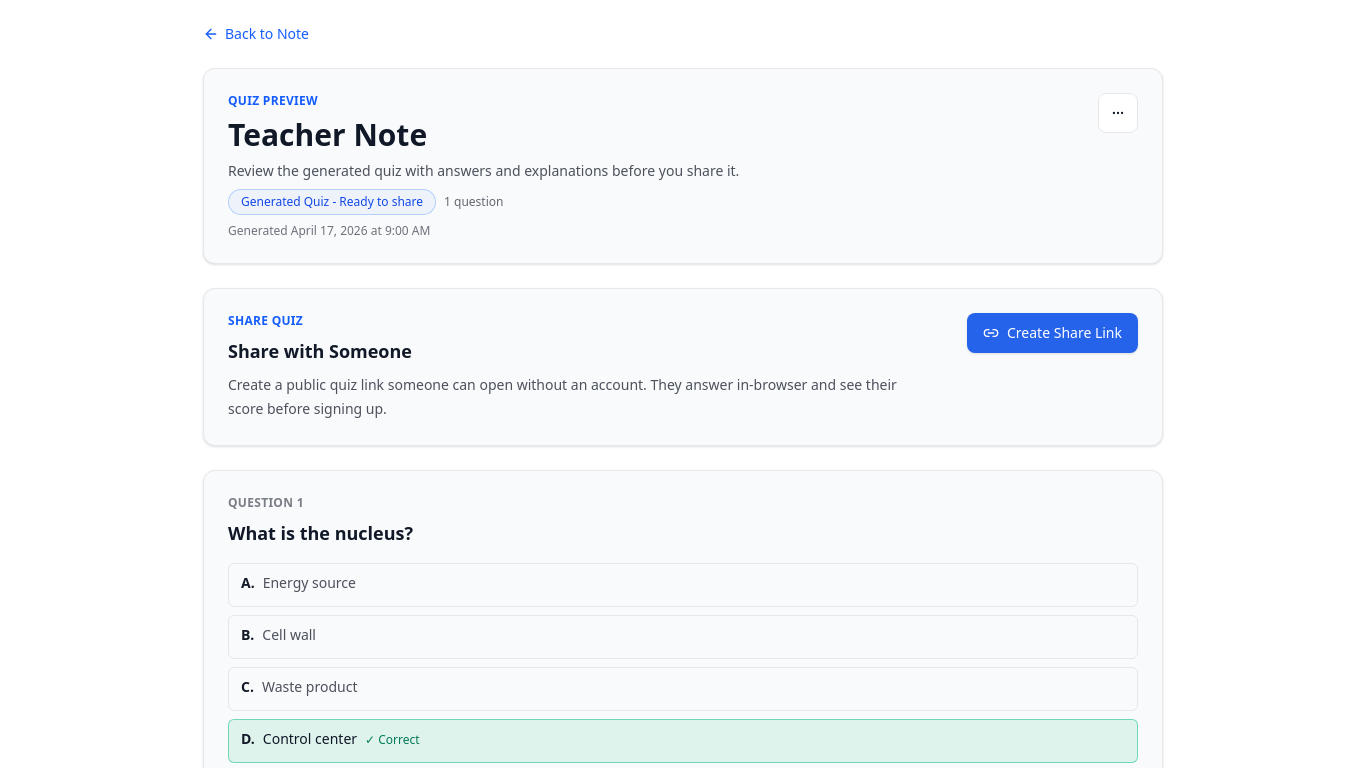
Scenario: GeneratedQuizPreviewPageClient › does not warn about a share link when there is no live one
This screenshot has width=1366, height=768.
Expected: the heading "What is the nucleus?" is shown, 228,521 -> 413,545
Click the button named "More quiz actions".
click(1118, 113)  # box 1098,93 -> 1138,133
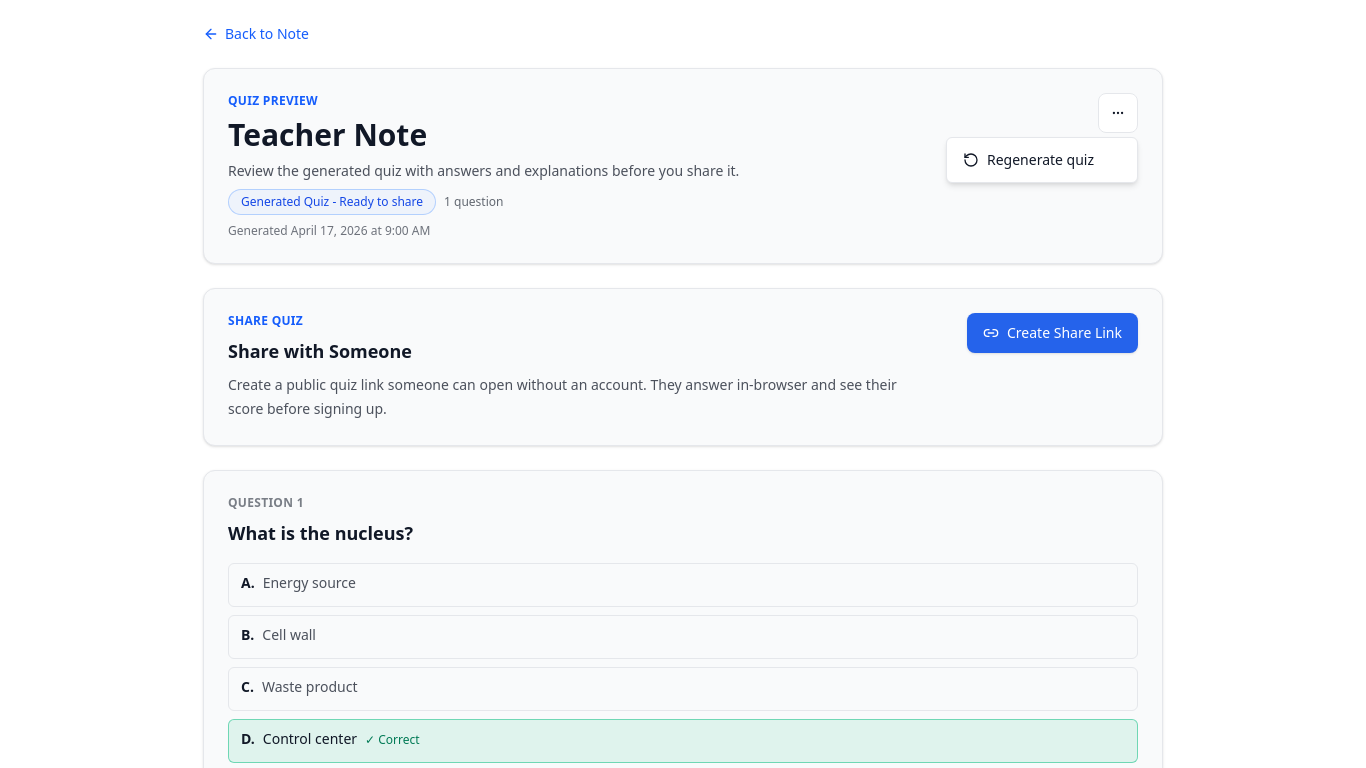
Click the menu item "Regenerate quiz".
click(1042, 160)  # box 951,142 -> 1133,178
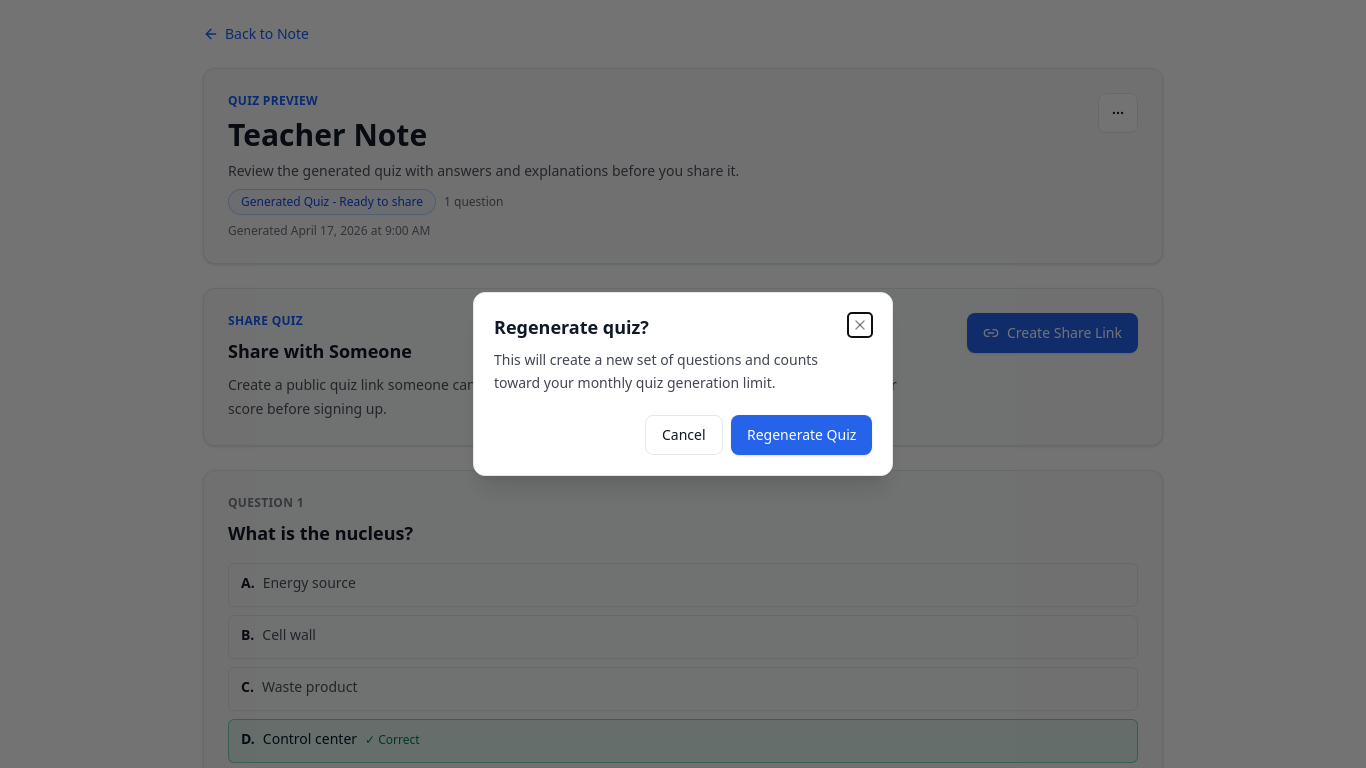
Expected: the text "counts toward your monthly quiz generation limit" is shown, 494,350 -> 818,392
